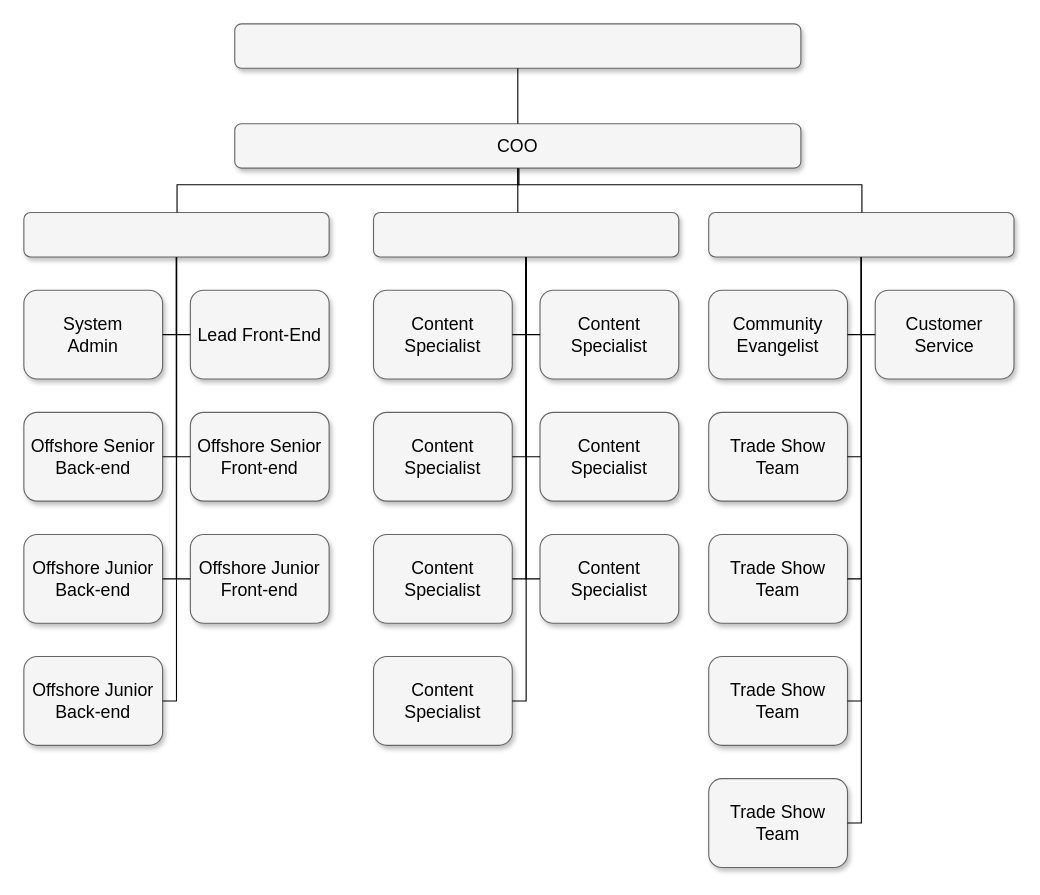
Image size: 1040x895. Some labels were removed from this diagram. Here are the shapes that lost their labels. From the top down, the centre of each, then its label:
At [518,47]: "CEO".
At [177,236]: "CTO".
At [526,236]: "CCO".
At [862,236]: "CMO".
